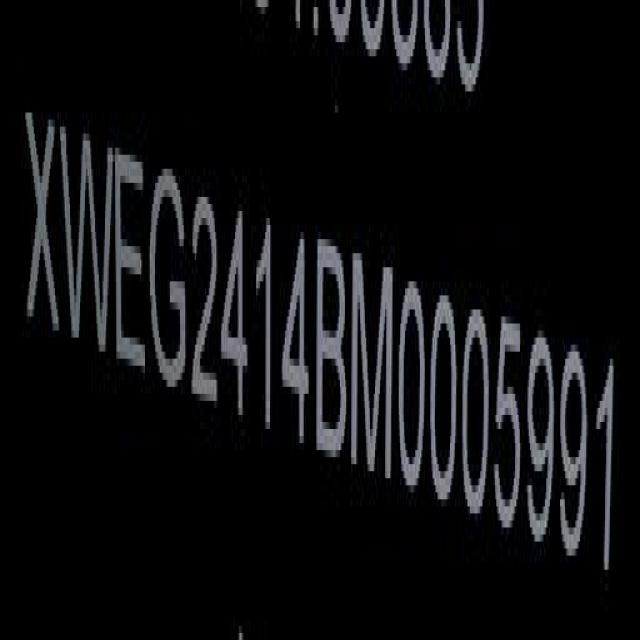0: (398, 270, 427, 494), (460, 298, 488, 525), (430, 286, 458, 512)
1: (599, 343, 619, 581), (256, 202, 276, 438)
2: (192, 183, 222, 415)
4: (284, 224, 313, 459), (222, 196, 248, 427)
5: (498, 307, 524, 537)
9: (558, 342, 586, 569), (526, 326, 554, 551)
B: (317, 235, 348, 470)
E: (116, 140, 148, 382)
G: (150, 160, 186, 397)
M: (352, 246, 392, 484)
W: (64, 124, 114, 369)
X: (23, 97, 61, 355)
